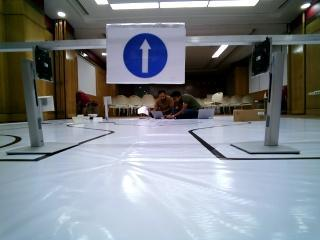straight: (105, 27, 185, 85)
